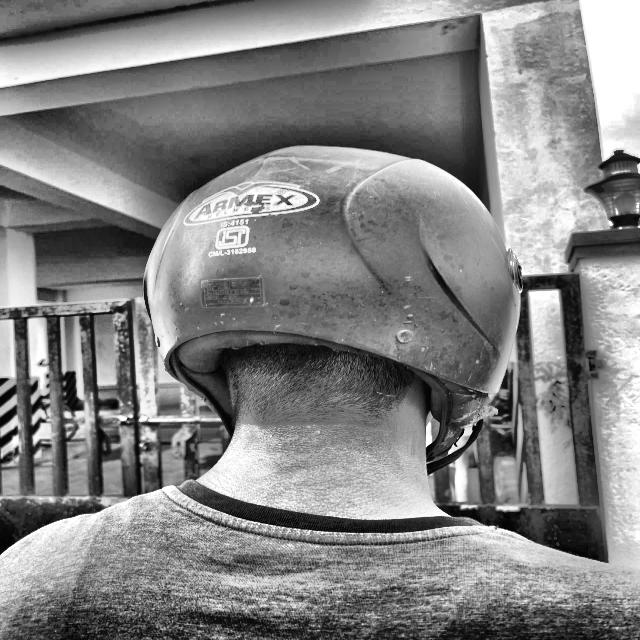Helmet: (132, 135, 546, 536)
